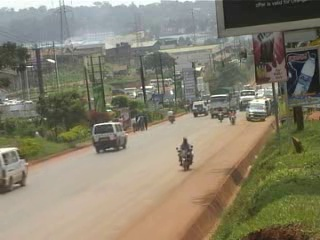Car: (189, 100, 211, 117)
Motorcycle: (175, 136, 196, 170), (227, 108, 240, 127), (164, 107, 177, 125), (214, 105, 226, 122)
